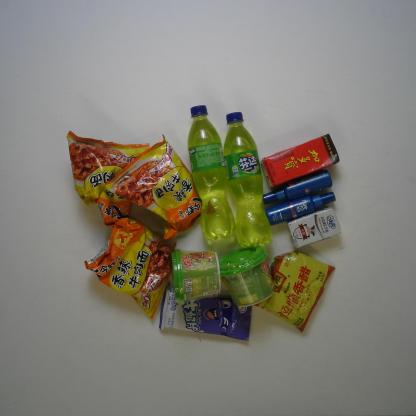Candy: (159, 283, 254, 341)
Drink: (188, 106, 236, 242), (224, 112, 272, 248), (260, 134, 339, 190)
Instant Drink: (216, 246, 274, 307), (170, 248, 221, 304)
Instant Noodles: (106, 136, 216, 242), (84, 217, 176, 319), (66, 130, 150, 226)
Milk: (288, 207, 342, 249)
Personal Hygiene: (262, 170, 332, 204), (266, 192, 336, 226)
Seasoner: (253, 250, 336, 332)
